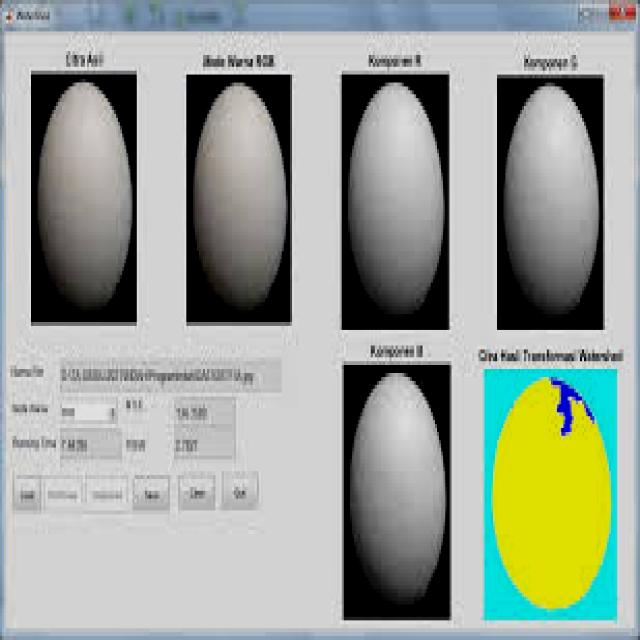telur: (344, 76, 448, 328), (501, 78, 603, 326), (34, 76, 136, 318), (347, 371, 446, 619), (189, 75, 289, 319)
